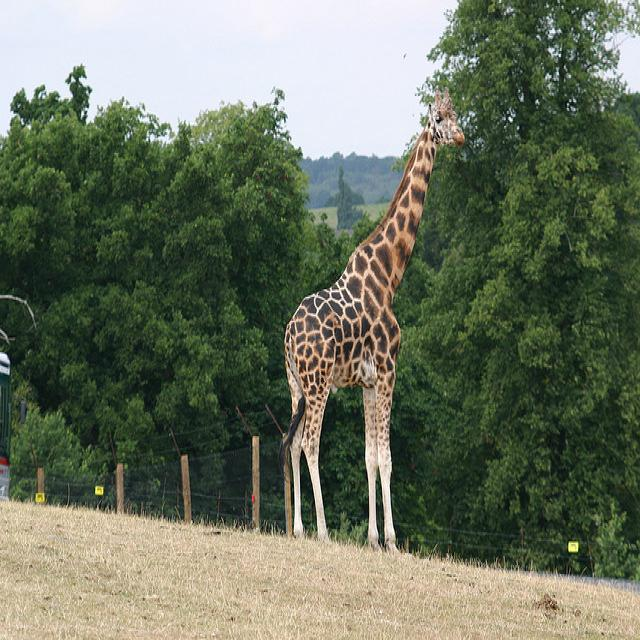Vehicle: (0, 335, 16, 507)
